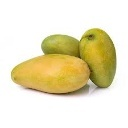mango: (10, 54, 90, 93)
